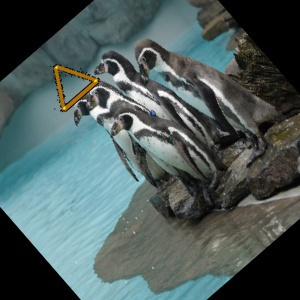triangle: (51, 63, 102, 115)
